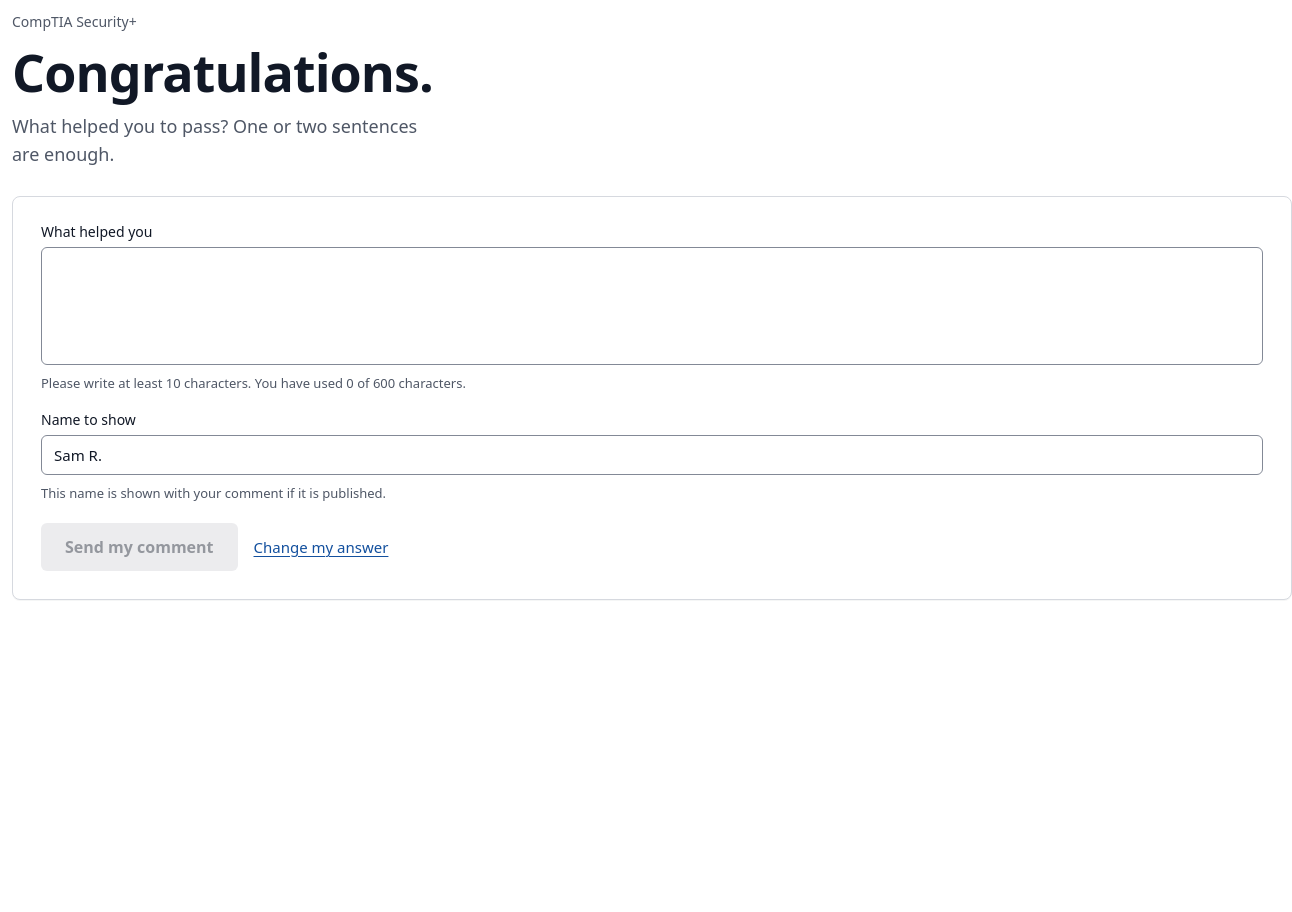
Test: when the answer cannot be sent › says so in a sentence, never in the machine's words, and is ready to be pressed again
Step 1. Type "The labs showed me what to study." into the text box labelled "What helped you" → [652, 306], box top-left (41, 247), bottom-right (1263, 365)
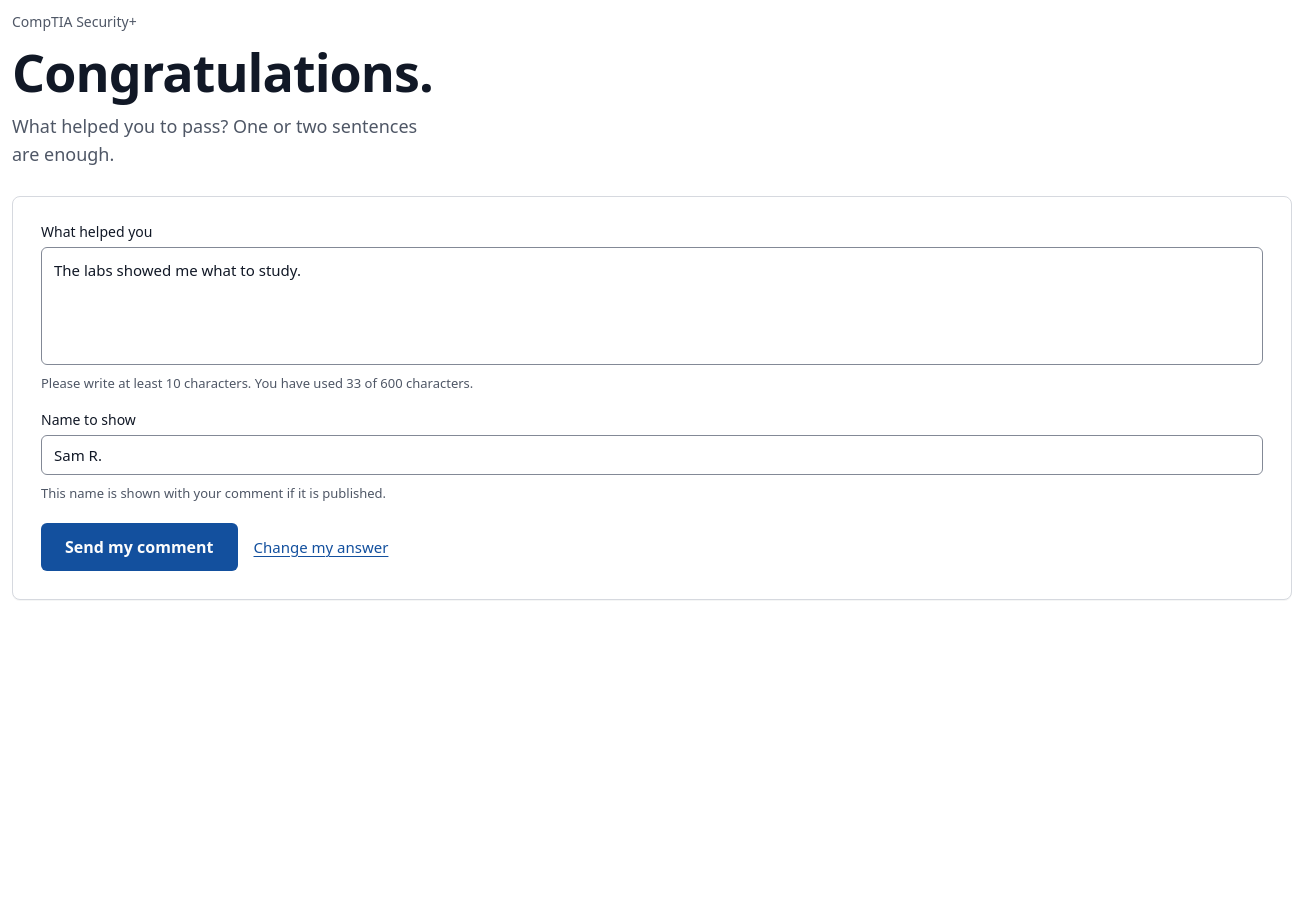
Step 2. Click the button "Send my comment" → [139, 547], box top-left (41, 523), bottom-right (238, 571)
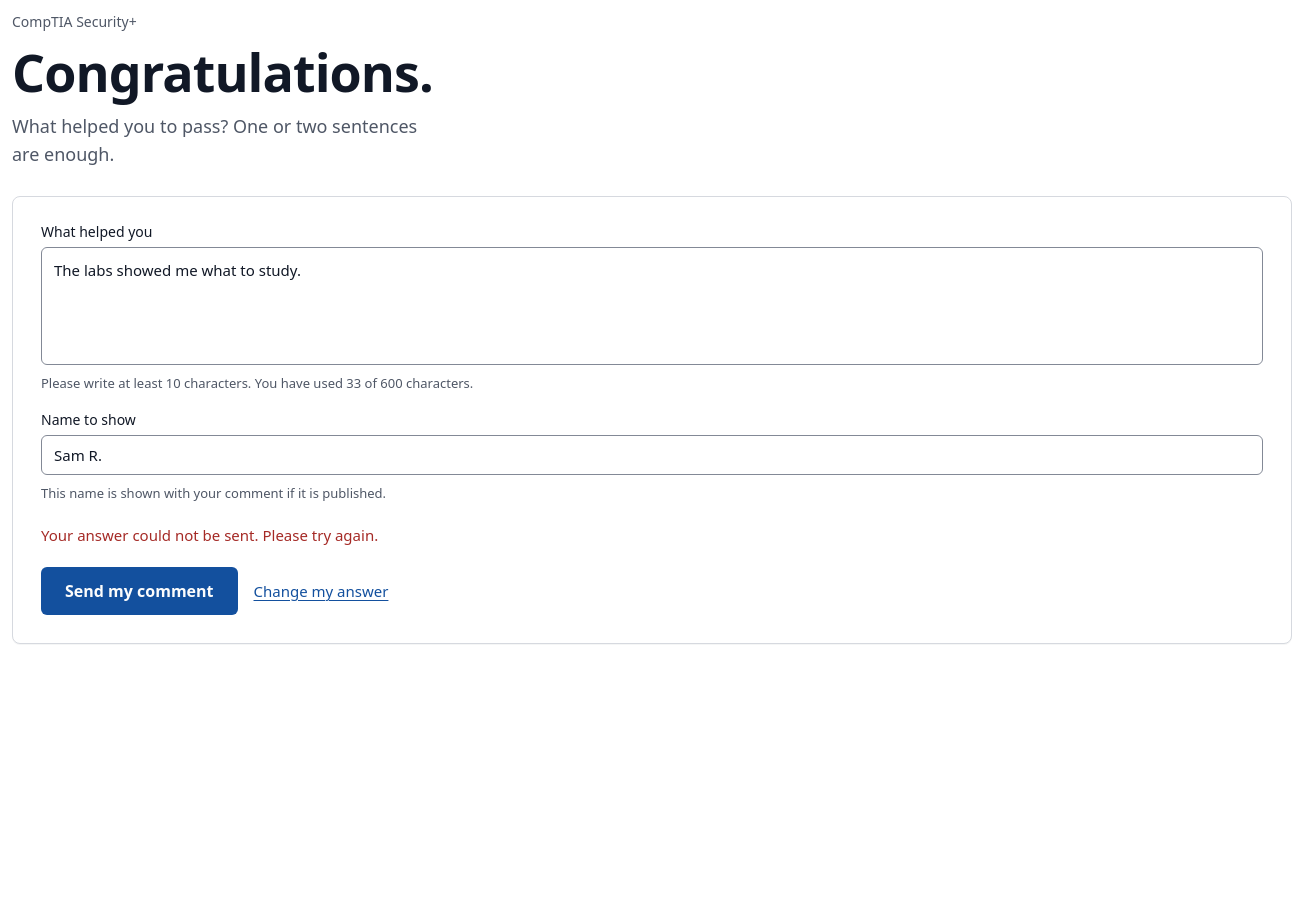
Check: the message reads "Your answer could not be sent. Please try again.", box top-left (41, 525), bottom-right (378, 545)
